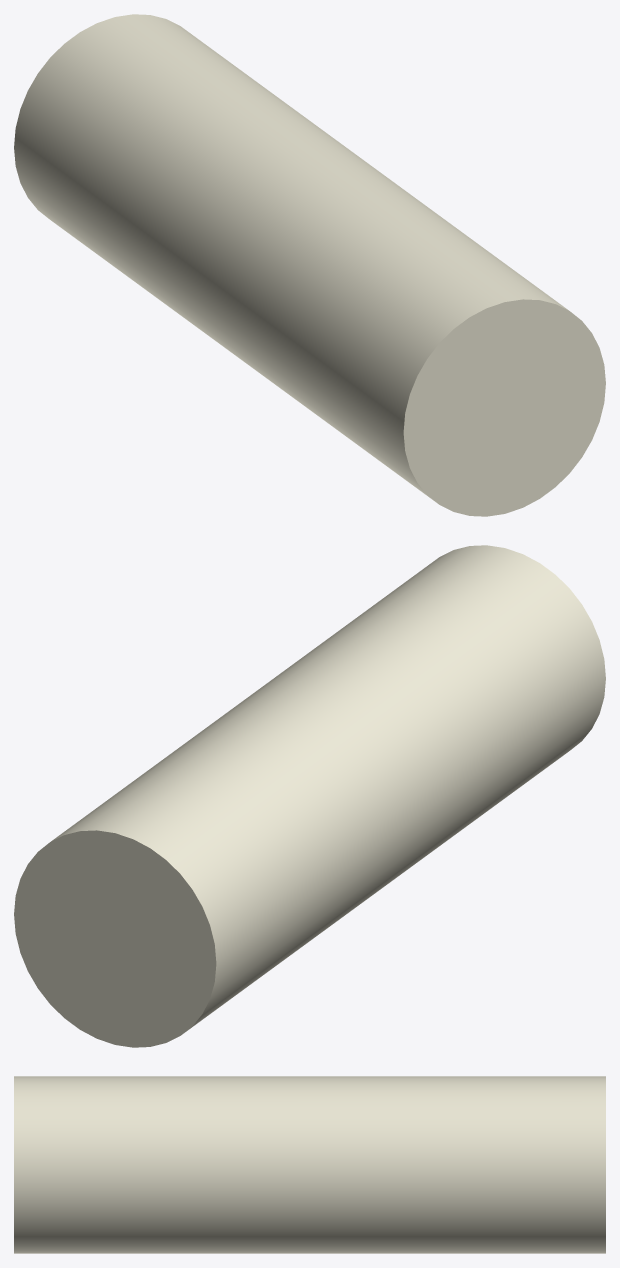
Rendered from Shape_Pipe.glb.
3 views of the same model, one above another, from view 1: azimuth 30°, elevation 25°; view 2: azimuth 150°, elevation 25°; view 3: azimuth 270°, elevation 25° (orthographic). The views are drawn at different scales.
Visible parts, largest first — view 1: Shape_Pipe; view 2: Shape_Pipe; view 3: Shape_Pipe.
Boxes of the visible parts, x1,y1,x2,y2 form: Shape_Pipe: (14,14,605,516); Shape_Pipe: (14,545,605,1047); Shape_Pipe: (14,1076,605,1253).
Bounding box in the file's own units: 0.3 × 0.3 × 1.
